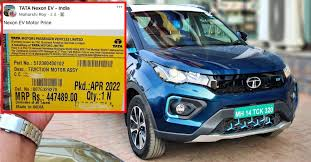Tata Nexon: (127, 1, 299, 161)
